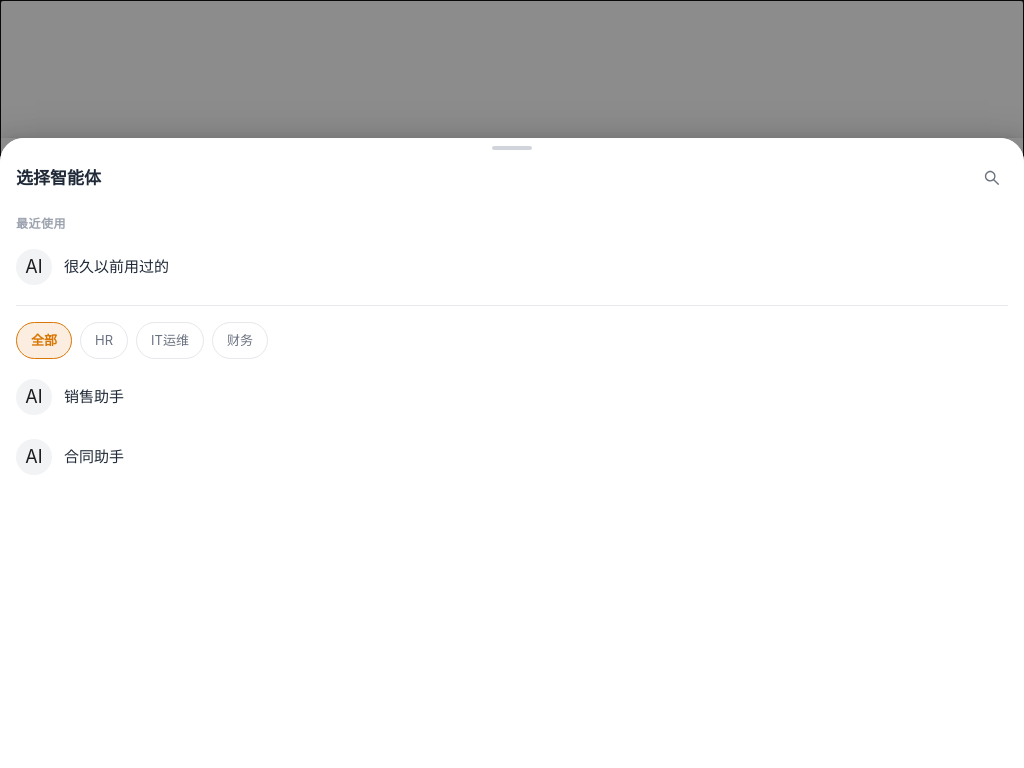
MobileCatalogSheet, server-paged mode › keeps the rail when a category legitimately has no rows
What coordinates should you click on to do the following:
click the button with class "mobile-sheet__tab" showing "财务"
I would click on:
 (240, 341)
Its box is [212,322,268,359].
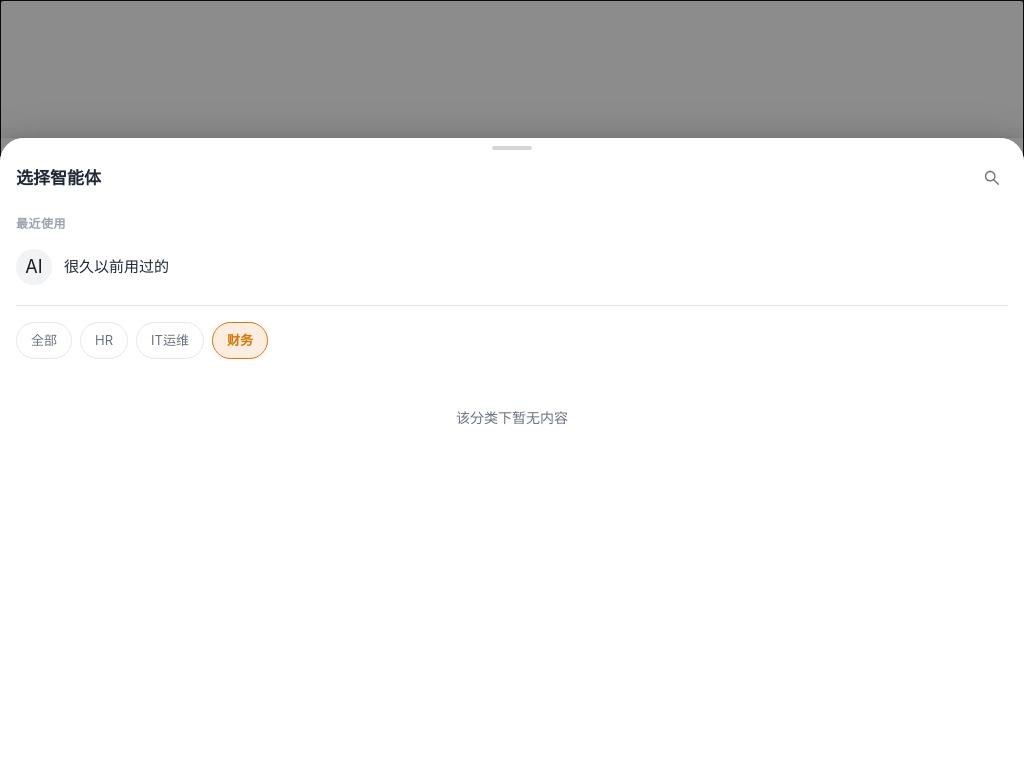
Expected: the button with class "mobile-sheet__tab" showing "HR" is shown, [80,322,128,359]
Now the text "该分类下暂无内容" is shown, box [456,409,568,426]
What coordinates should you click on to do the following:
click the button with class "mobile-sheet__tab" showing "全部"
I would click on:
 (44, 341)
Its box is [16,322,72,359].
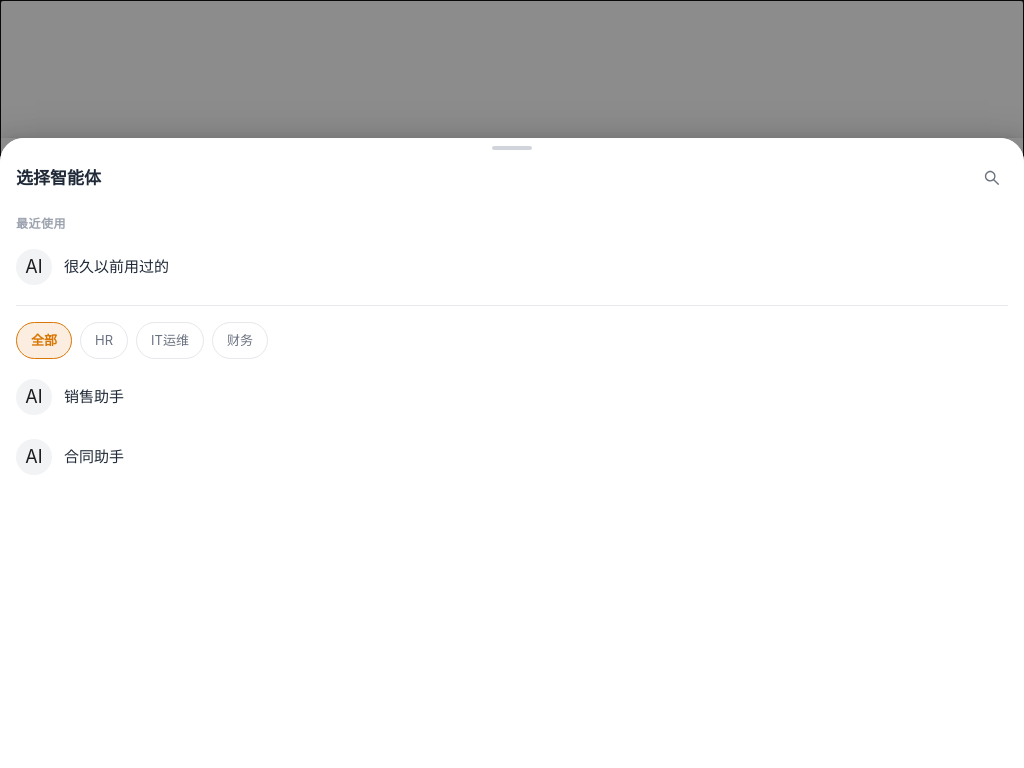
Now the button with class "mobile-sheet__row" showing "AI 合同助手" is shown, box [0,427,1023,487]
